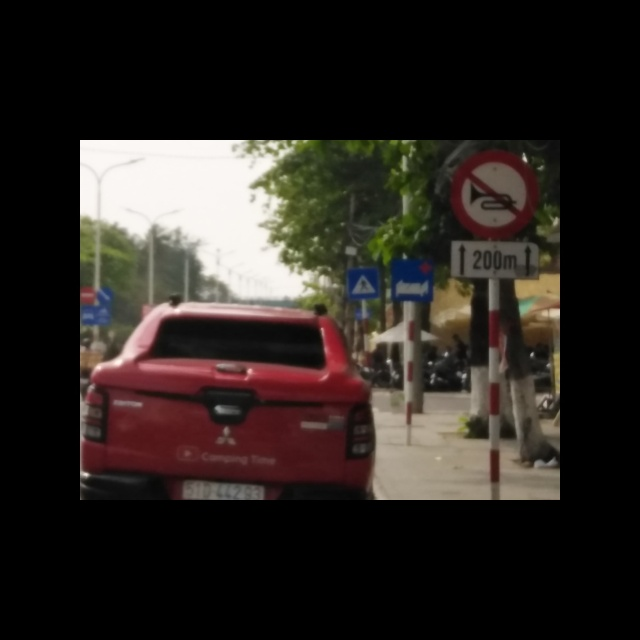Bệnh viện: (392, 259, 433, 305)
Cấm bấm còi: (449, 153, 536, 242)
Đường dành cho người đi bộ: (345, 269, 383, 301)
